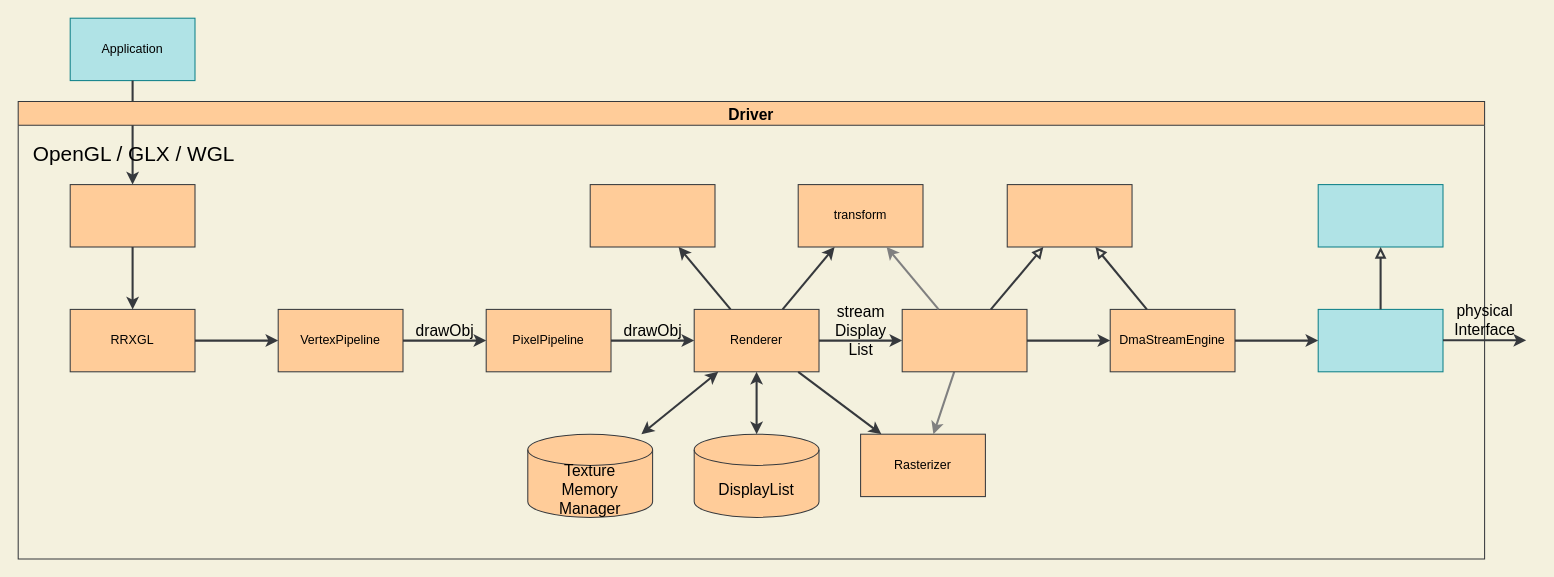
This 1554x577 diagram has some shape labels left out. The centre of each missing label's shape, as x and y in pixels:
"(Optional) ThreadedRasterizer" belongs at point (964, 340).
"DmaProxy/FT60X/SPI" belongs at point (1380, 340).
"gl" belongs at point (132, 215).
"IBusConnector" belongs at point (1380, 215).
"IDevice" belongs at point (1069, 215).
"IThreadRunner" belongs at point (652, 215).
